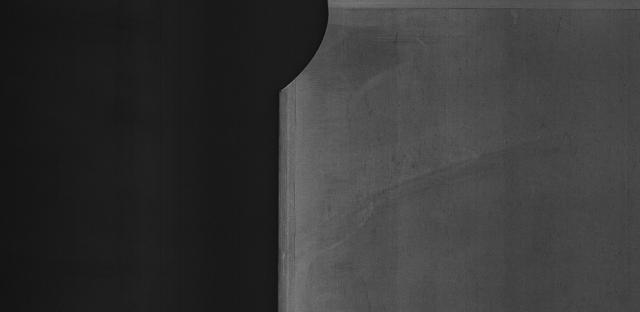welding_line: (311, 0, 639, 19)
